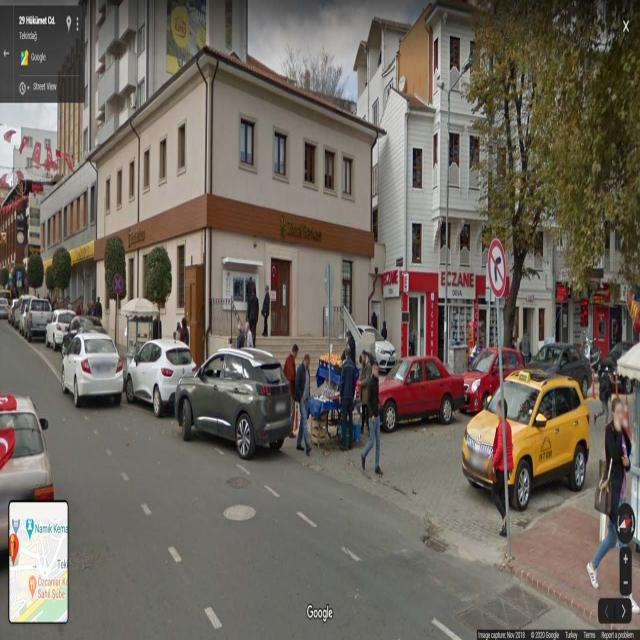sagadonulmez: (489, 239, 507, 296)
